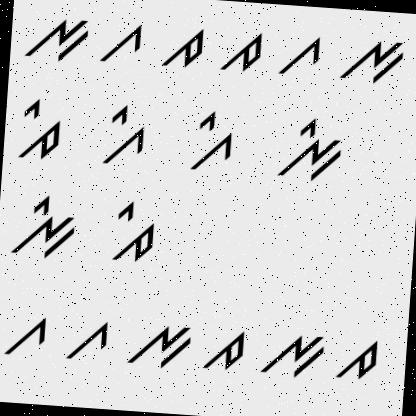ga: (0, 307, 50, 363), (60, 312, 110, 366), (279, 27, 324, 81), (96, 17, 144, 66)
gi: (181, 104, 241, 180), (96, 95, 150, 170)
nga: (120, 312, 195, 374), (259, 320, 328, 386), (23, 8, 94, 70), (338, 28, 410, 88)
ngi: (272, 112, 346, 186), (8, 189, 79, 261)
ta: (156, 20, 210, 74), (332, 330, 381, 388), (200, 324, 247, 379), (214, 28, 267, 75)
ti: (108, 195, 161, 266), (13, 94, 64, 162)
